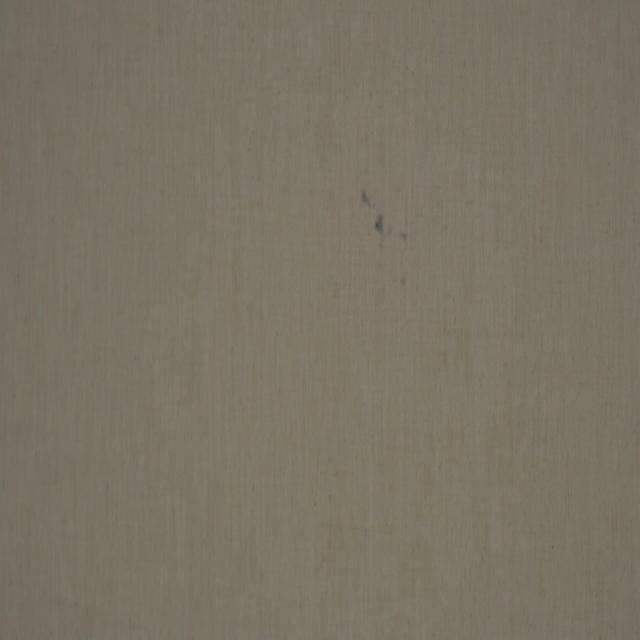dirty: (362, 187, 376, 210), (375, 214, 384, 236), (398, 275, 406, 286), (401, 231, 408, 242)
